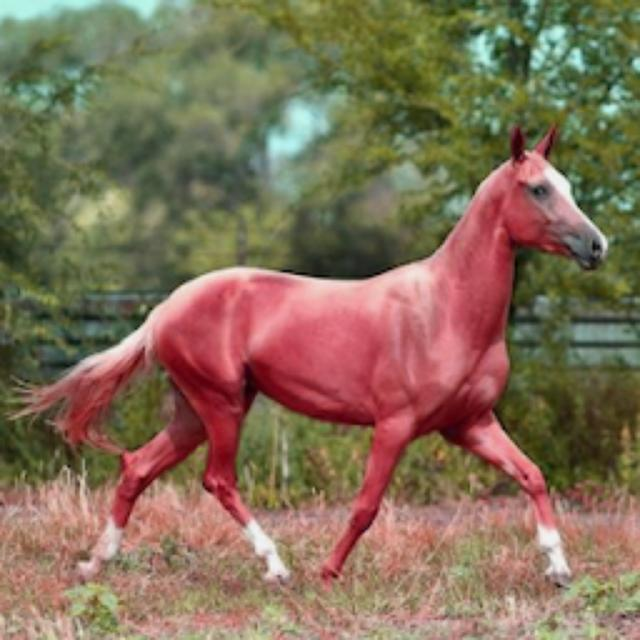Horse: (5, 117, 618, 595)
